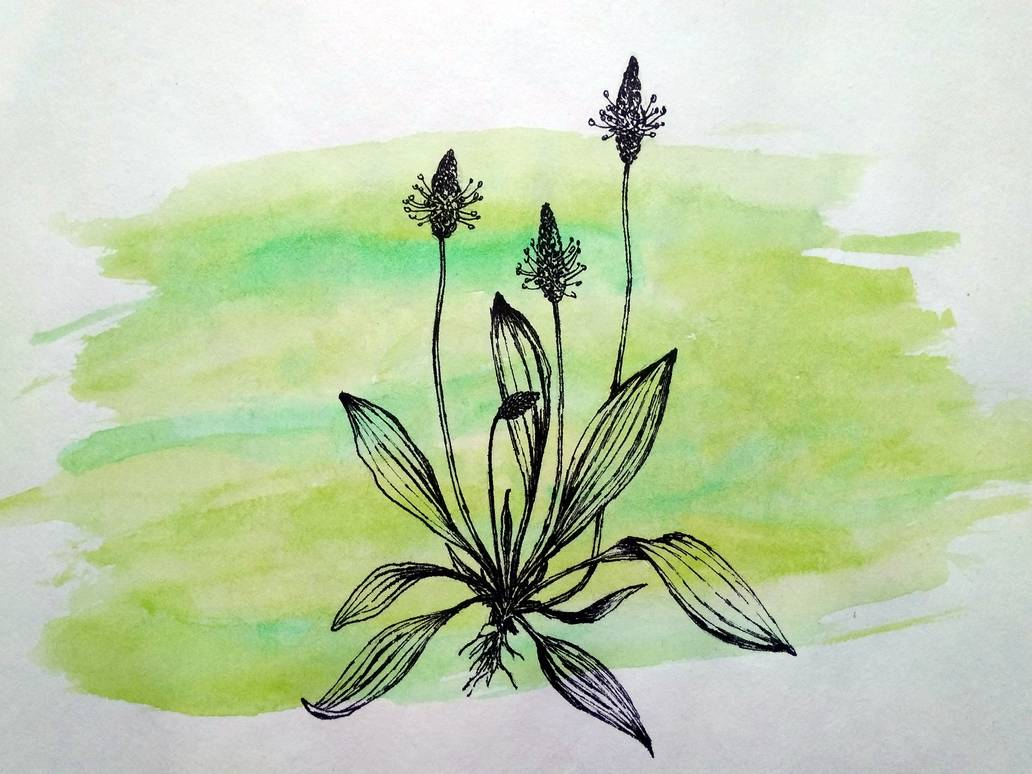buckhorn plantain: (294, 48, 793, 749)
